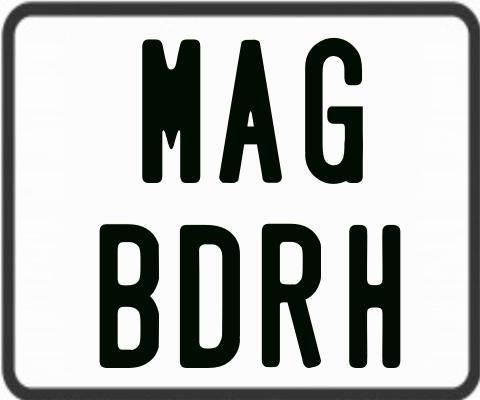A: (218, 39, 281, 186)
B: (98, 221, 162, 370)
D: (177, 223, 237, 367)
G: (302, 35, 365, 184)
H: (348, 224, 405, 367)
M: (142, 36, 205, 184)
R: (261, 221, 321, 371)
